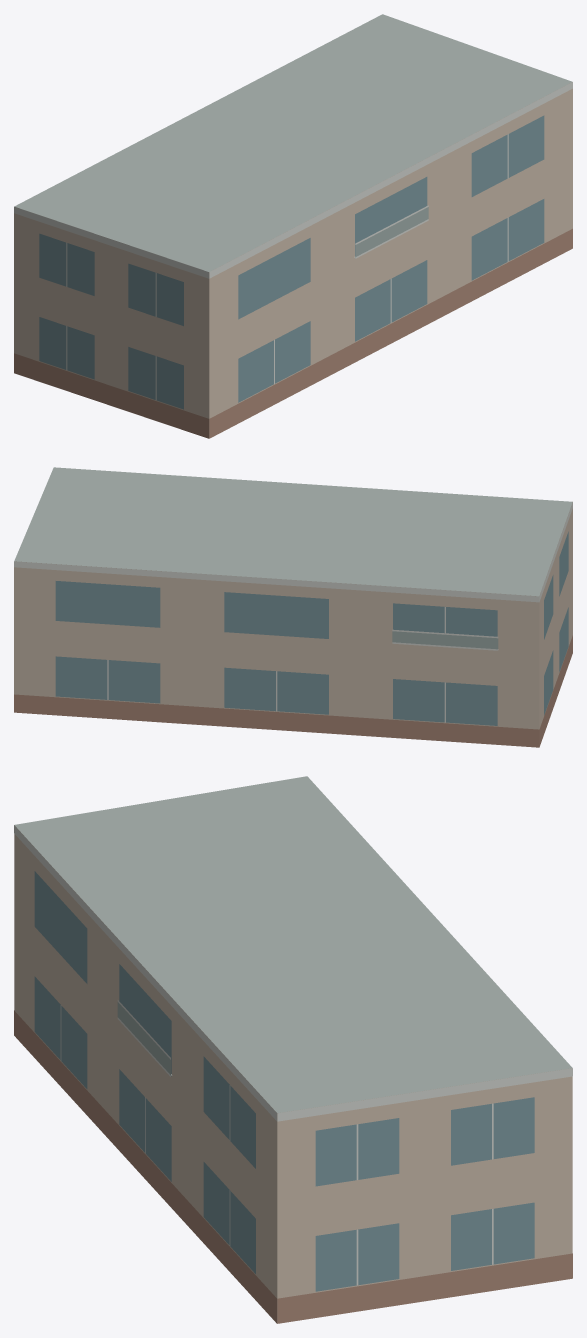
Rendered from survey-upis-33002923.glb.
3 views of the same model, one above another, from view 1: azimuth 30°, elevation 25°; view 2: azimuth 150°, elevation 25°; view 3: azimuth 270°, elevation 25° (orthographic). The views are drawn at different scales.
Parts seen in each view (by area): view 1: survey-upis-33002923.tmp; view 2: survey-upis-33002923.tmp; view 3: survey-upis-33002923.tmp.
Boxes of the visible parts, x1,y1,x2,y2 form: survey-upis-33002923.tmp: (14,14,572,438); survey-upis-33002923.tmp: (14,467,572,747); survey-upis-33002923.tmp: (14,776,572,1323).
Size of the model in its own units: 20.96 by 6.1 by 14.68.
